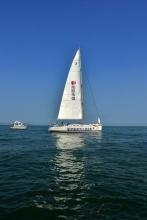fanchuan: (44, 46, 109, 133)
otherboat: (7, 119, 29, 132)
